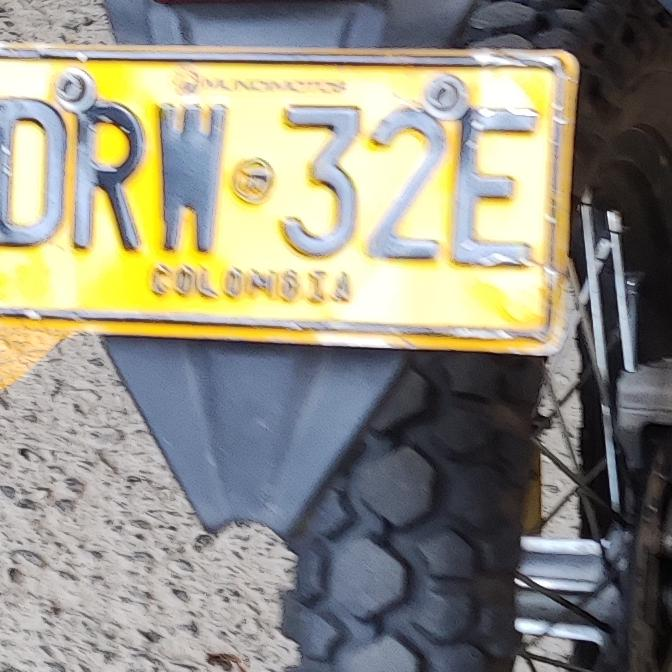plates: (0, 43, 576, 352)
